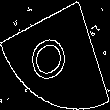O_E: (30, 24, 80, 86)
